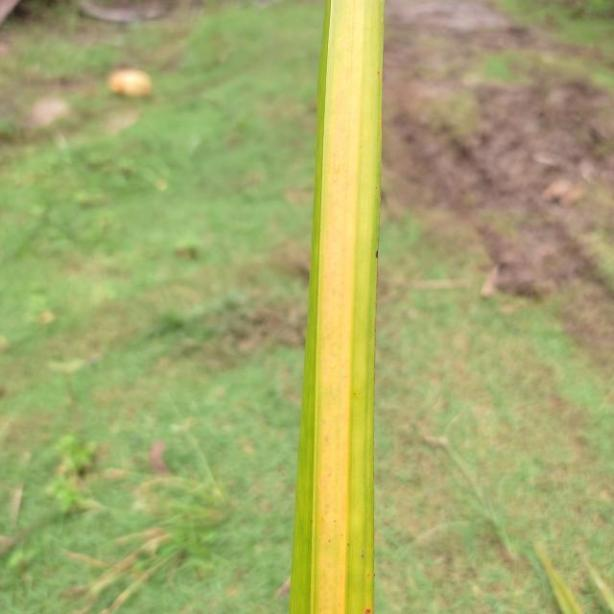nitrogen: (292, 0, 384, 614)
